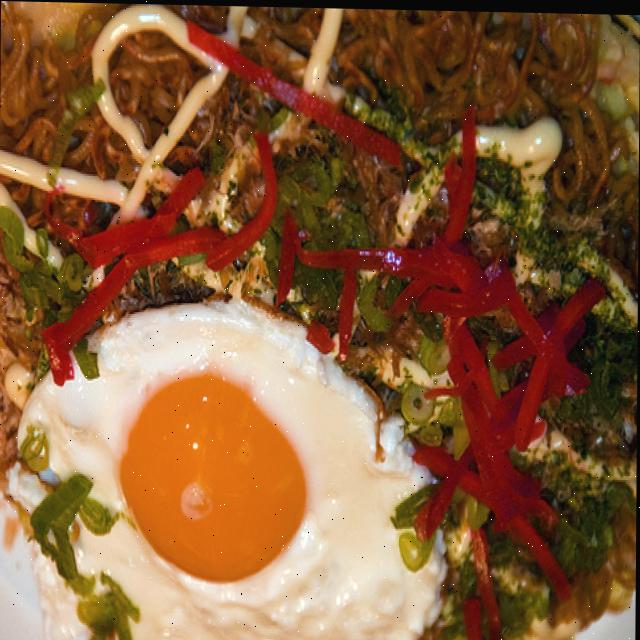鸡蛋料理: (27, 303, 485, 640)
